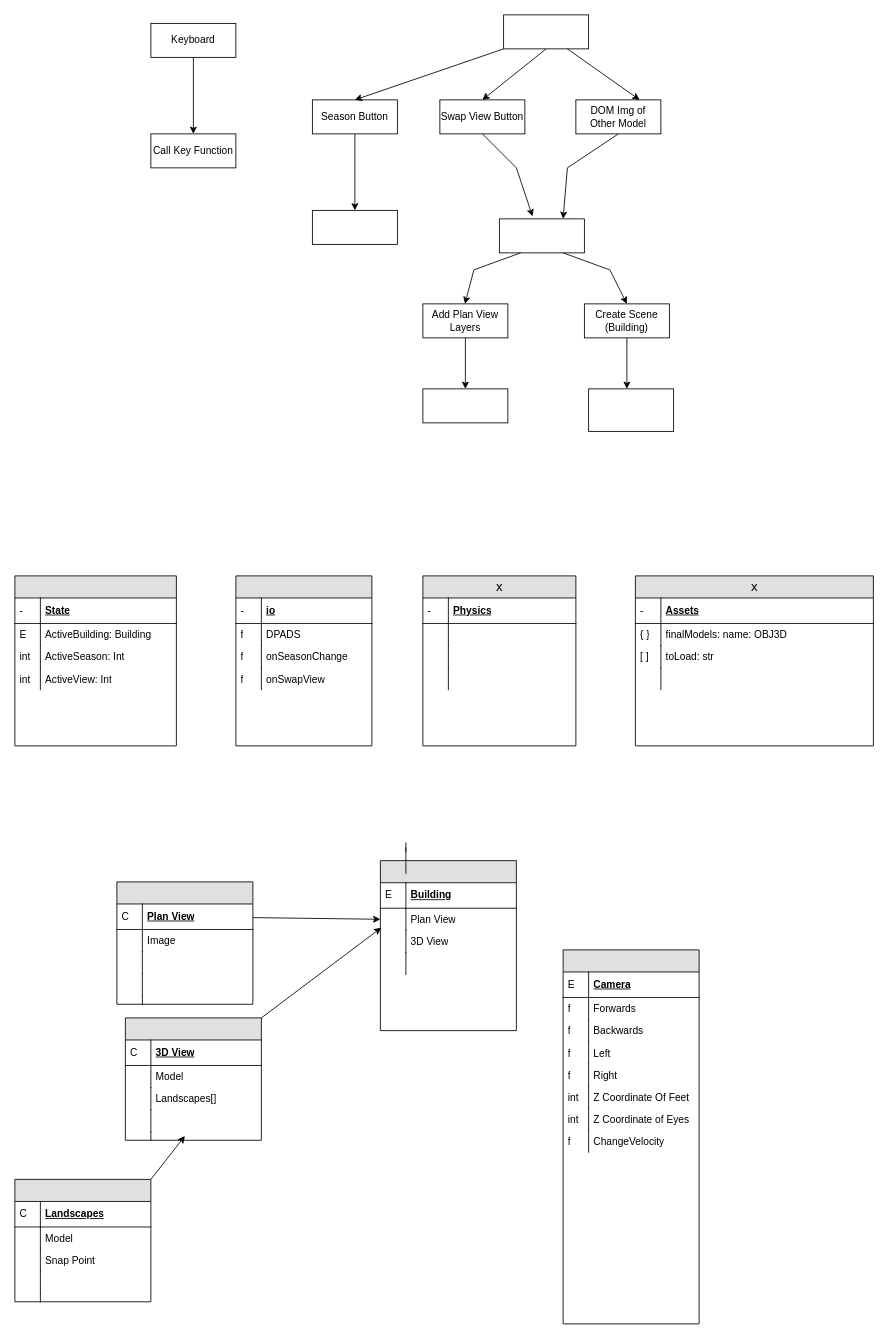
The diagram is 888 pixels wide and 1339 high, and some of its shapes have lost their labels. Each missing label, with the centre of its shape:
Add Layer Counter: pixel 465 405
Clear Scene Objects, Caches, Event Handlers: pixel 541 235
Click: pixel 546 31
Create Camera/Player: pixel 631 409
Depends on how we decide objects work: pixel 354 227
